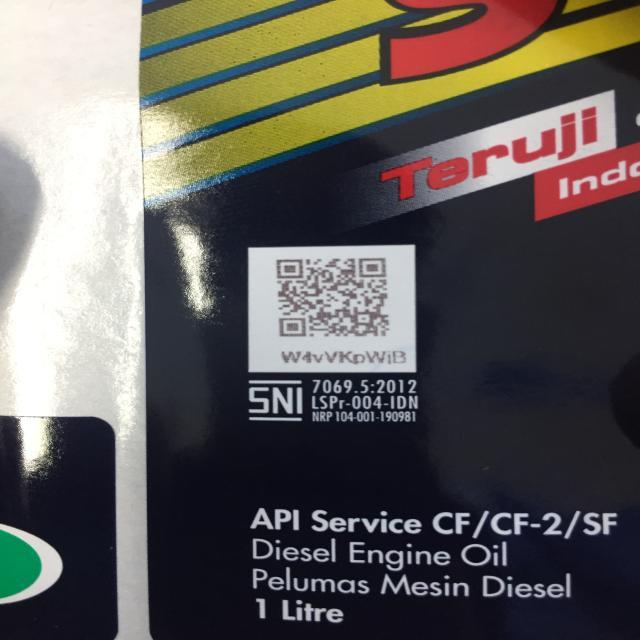qr-code: (271, 252, 396, 340)
